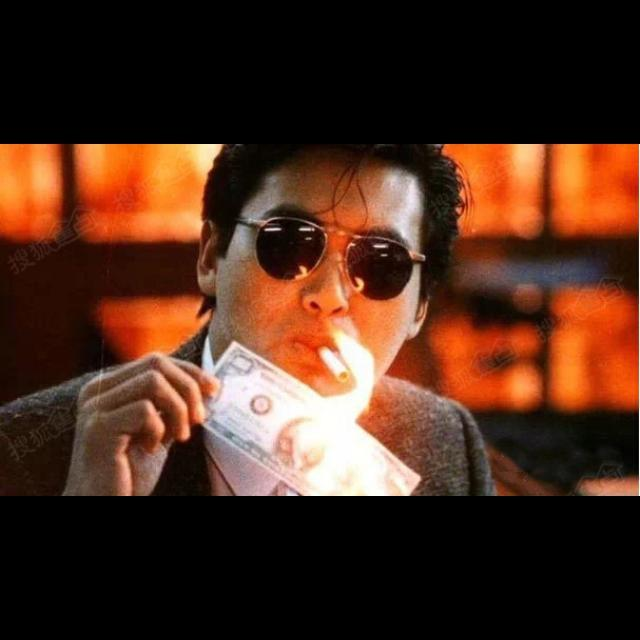rokok: (312, 344, 350, 384)
